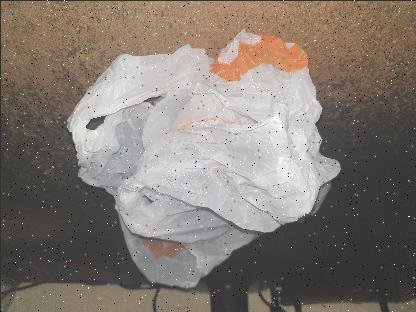Others: (65, 29, 349, 291)
